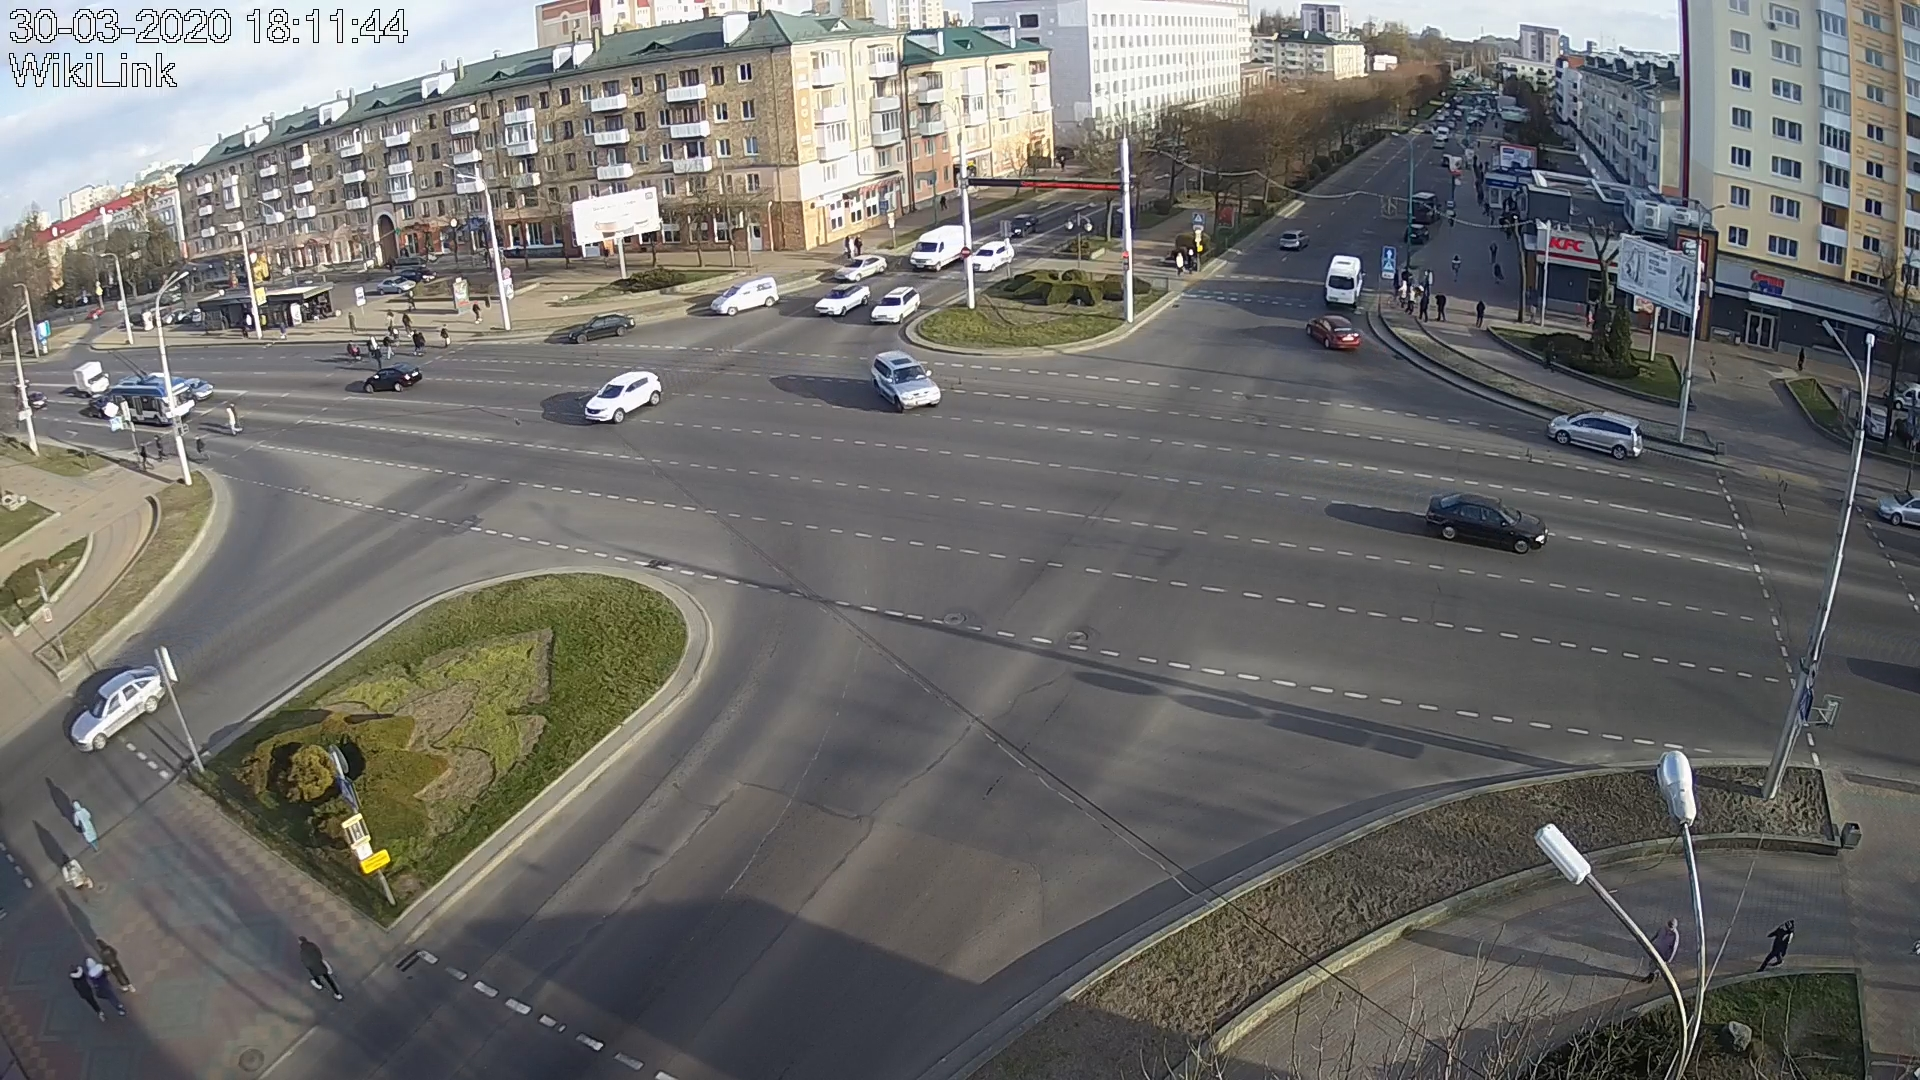bus: (111, 375, 193, 426)
car: (70, 663, 166, 753), (1425, 492, 1549, 556), (1548, 409, 1644, 462), (869, 349, 942, 413), (583, 371, 663, 425), (711, 274, 779, 316), (910, 224, 965, 272), (1323, 255, 1365, 306), (1305, 314, 1362, 351), (567, 314, 636, 344), (814, 281, 872, 316), (870, 285, 920, 324), (363, 363, 423, 393), (833, 255, 887, 281), (972, 239, 1014, 272)
